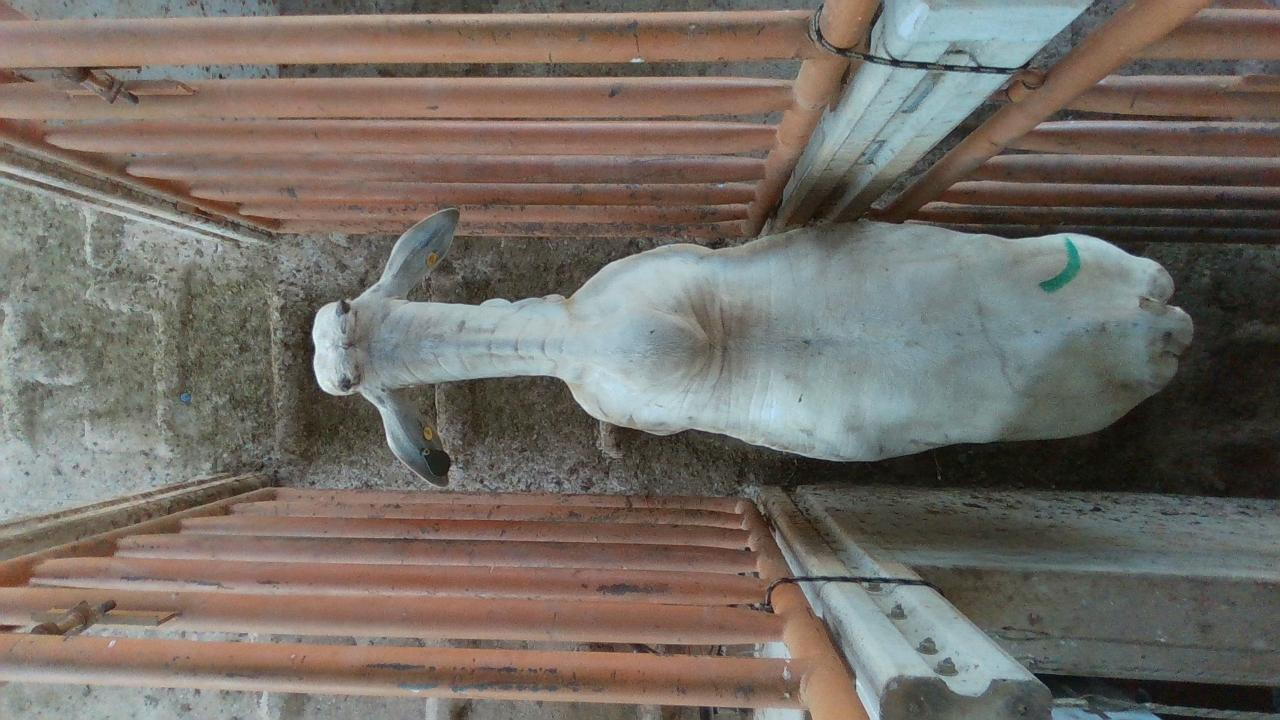cattle: (309, 206, 1194, 486)
